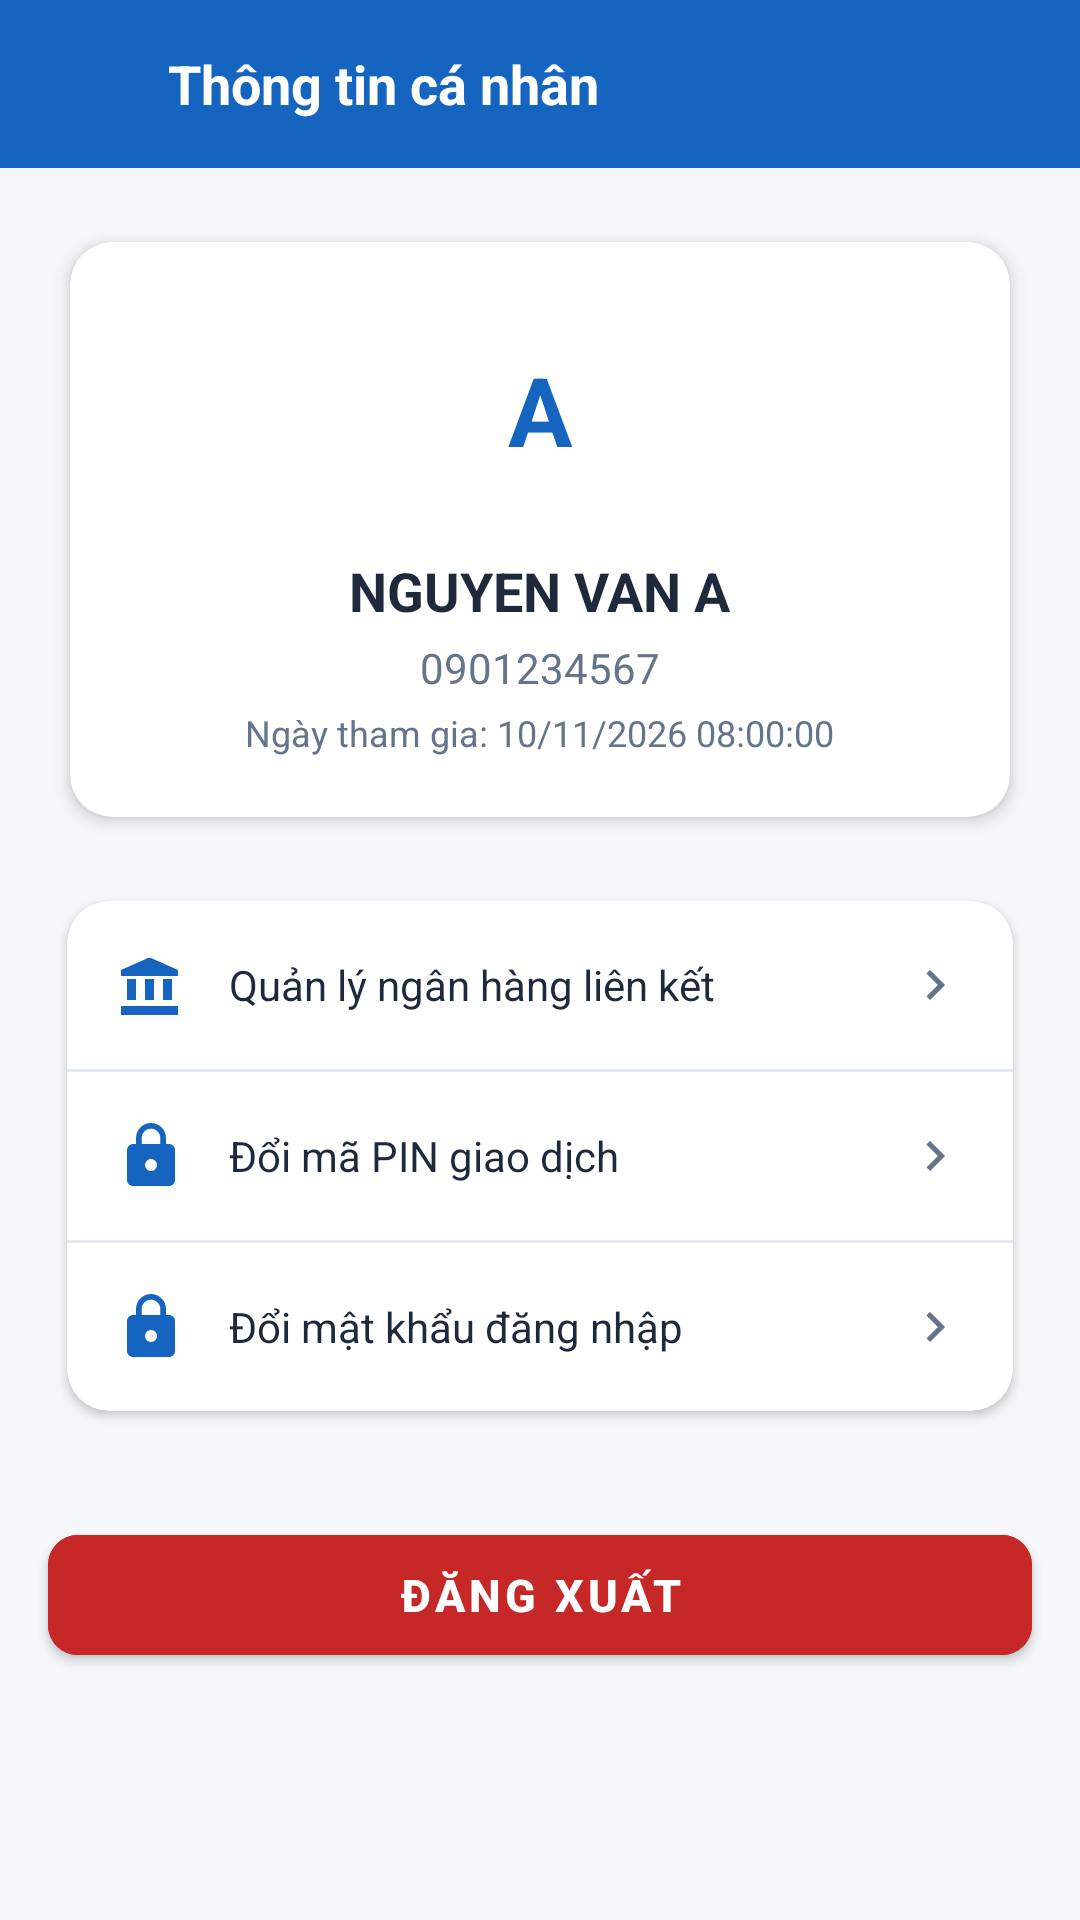

Point at icon controls on the screen. Image size 1080x1920, points as (x,y).
arrow forward: (935,985), (935,1156), (935,1327)
bank: (149,986)
lock: (151,1154), (151,1325)
